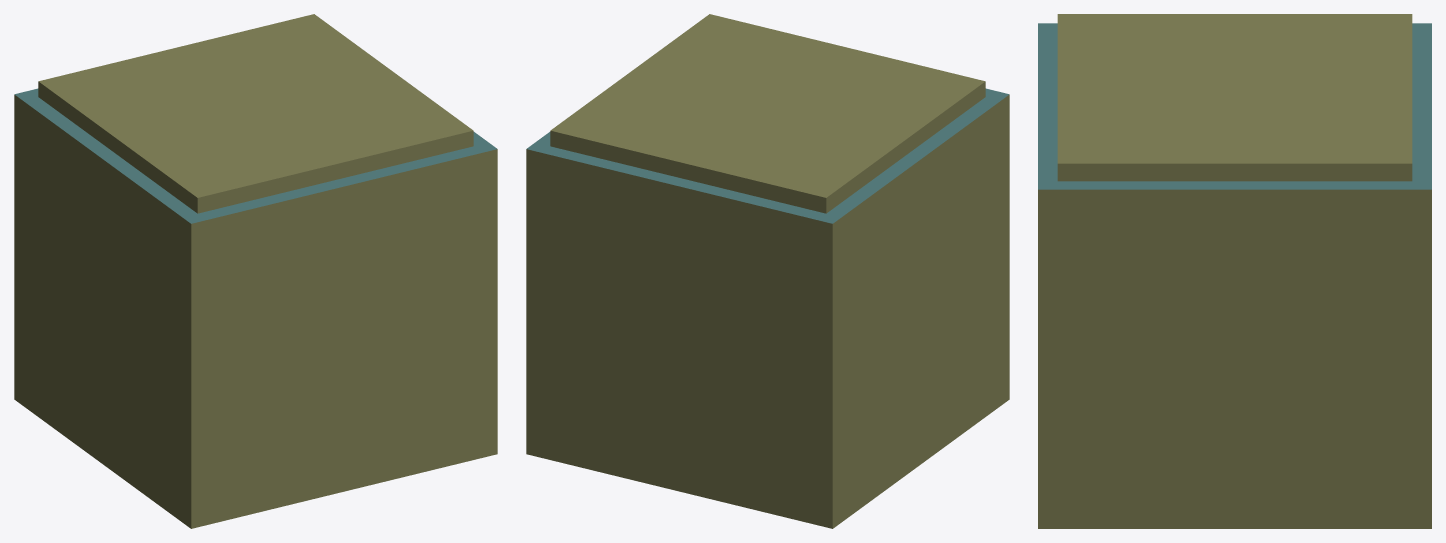
Rendered from ground_remains_blue.fbx.
3 views of the same model, side by side, from view 1: azimuth 30°, elevation 25°; view 2: azimuth 150°, elevation 25°; view 3: azimuth 270°, elevation 25° (orthographic). The views are drawn at different scales.
Visible parts, largest first — view 1: Plane.001; view 2: Plane.001; view 3: Plane.001.
Part boxes in pixels (box(x1,y1,x2,y2)): Plane.001: box(14, 14, 497, 528); Plane.001: box(526, 14, 1009, 528); Plane.001: box(1038, 14, 1431, 528).
Size of the model in its own units: 1 by 1 by 1.
1 material, 1 textured.
